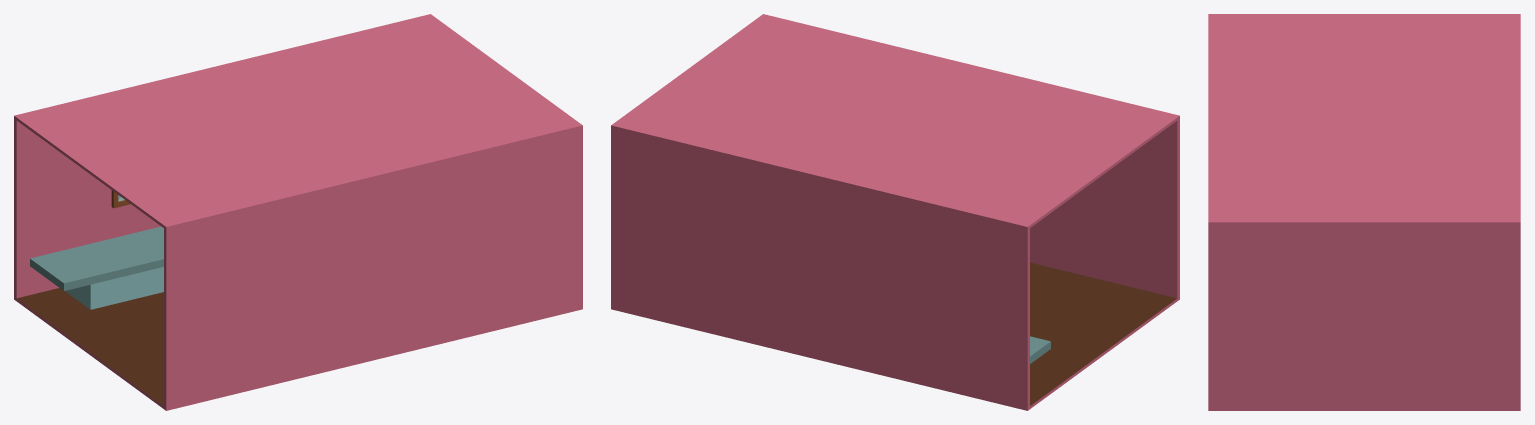
Rendered from drcatoffice.fbx.
The picture shows the model from 3 angles, left to right: view 1: azimuth 30°, elevation 25°; view 2: azimuth 150°, elevation 25°; view 3: azimuth 270°, elevation 25°; orthographic projection. The views are drawn at different scales.
Parts seen in each view (by area): view 1: Cube.187; view 2: Cube.187; view 3: Cube.187.
Boxes of the visible parts, x1,y1,x2,y2 form: Cube.187: (14, 14, 582, 410); Cube.187: (611, 14, 1179, 410); Cube.187: (1208, 14, 1520, 410).
Bounding box in the file's own units: 569 × 240 × 360.
